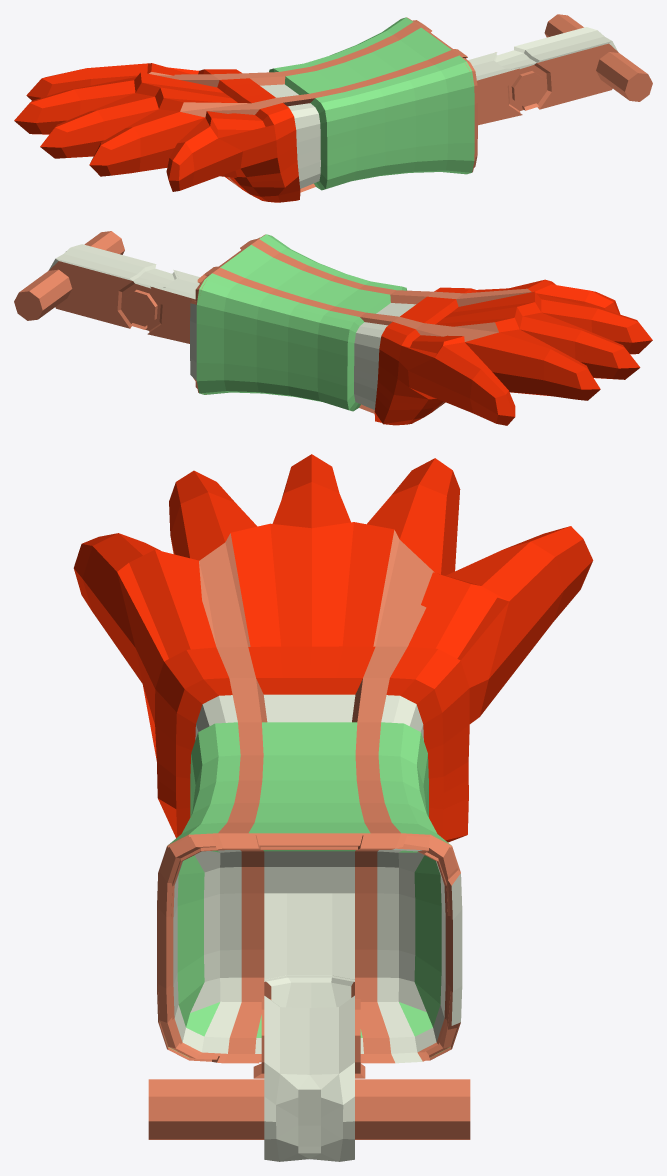
The model's file is HandItem.fbx.
3 views of the same model, one above another, from view 1: azimuth 30°, elevation 25°; view 2: azimuth 150°, elevation 25°; view 3: azimuth 270°, elevation 25° (orthographic). The views are drawn at different scales.
Parts seen in each view (by area): view 1: Cube.001, Cube; view 2: Cube.001, Cube; view 3: Cube.001, Cube.
Part boxes in pixels (x1,y1,x2,y2): Cube.001: (14,17,522,202); Cube: (493,14,652,112); Cube.001: (147,234,652,425); Cube: (14,231,176,332); Cube.001: (73,454,593,1063); Cube: (148,975,470,1161).
Bounding box in the file's own units: 528 × 117 × 208.
